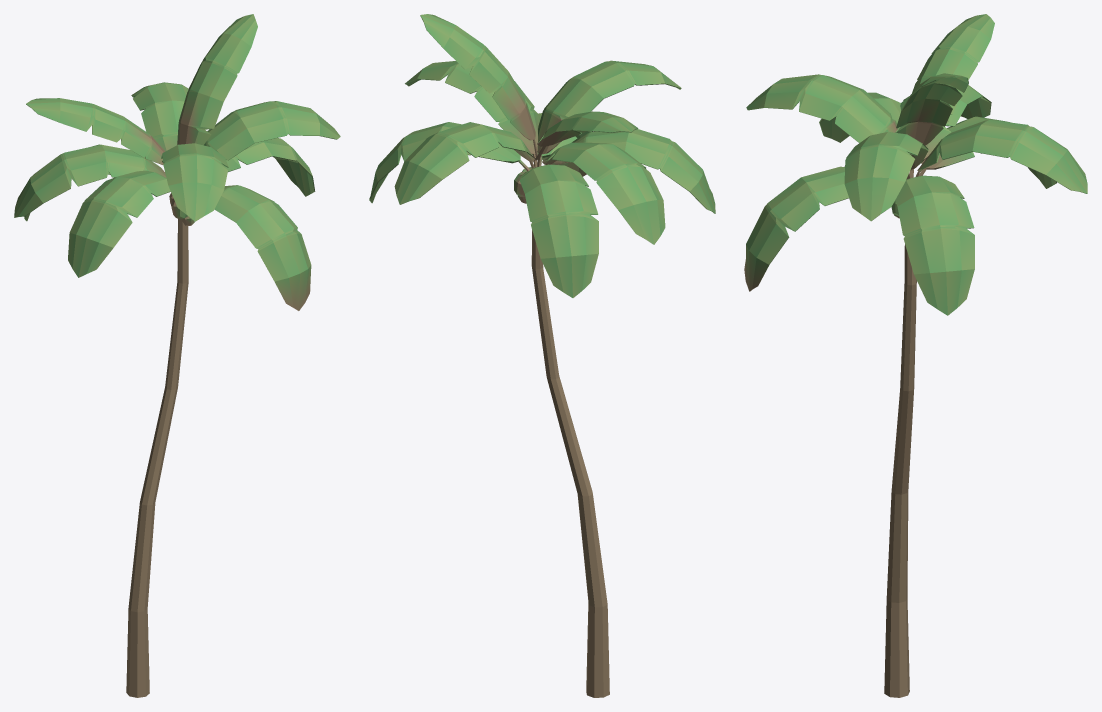
File: m_palm.glb
The picture shows the model from 3 angles, left to right: view 1: azimuth 30°, elevation 25°; view 2: azimuth 150°, elevation 25°; view 3: azimuth 270°, elevation 25°; orthographic projection. The views are drawn at different scales.
Parts seen in each view (by area): view 1: CoconutPalmTree_mesh; view 2: CoconutPalmTree_mesh; view 3: CoconutPalmTree_mesh.
Boxes of the visible parts, x1,y1,x2,y2 form: CoconutPalmTree_mesh: [14, 14, 340, 697]; CoconutPalmTree_mesh: [369, 14, 715, 697]; CoconutPalmTree_mesh: [744, 14, 1087, 697].
Bounding box in the file's own units: 12.75 × 27.08 × 12.16.
